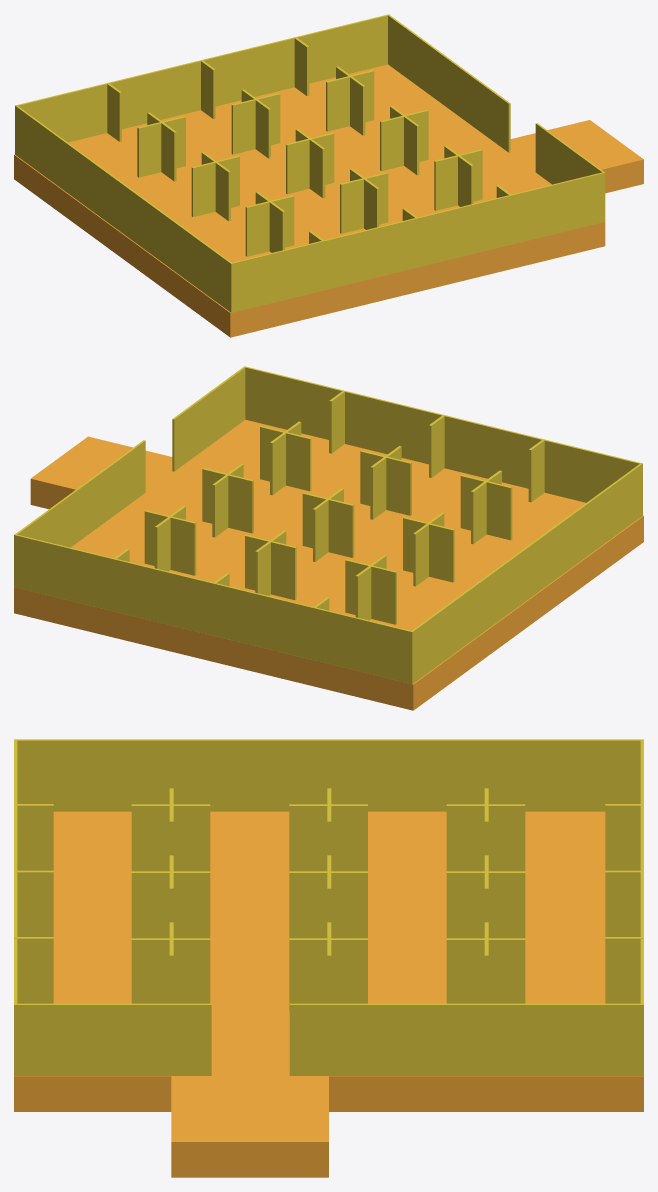
File: Base_Map16.fbx
3 renders of one model, top to bottom at view 1: azimuth 30°, elevation 25°; view 2: azimuth 150°, elevation 25°; view 3: azimuth 270°, elevation 25°, orthographic. The views are drawn at different scales.
Parts seen in each view (by area): view 1: Cube.007, Cube; view 2: Cube.007, Cube; view 3: Cube.007, Cube.
Part boxes in pixels (<box>): Cube.007: <box>15,14,605,312</box>; Cube: <box>14,64,643,337</box>; Cube.007: <box>14,366,642,684</box>; Cube: <box>14,419,643,710</box>; Cube.007: <box>14,739,643,1075</box>; Cube: <box>14,811,643,1177</box>.
Bounding box in the file's own units: 998 × 150 × 800.
